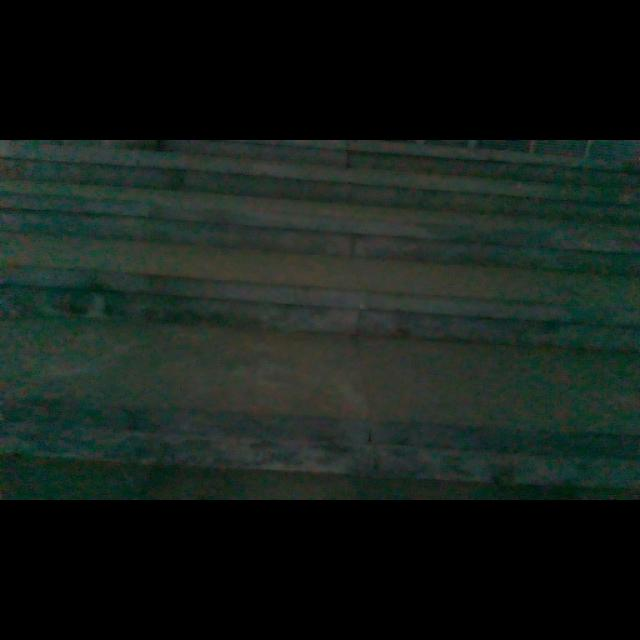stair: (14, 156, 640, 467)
